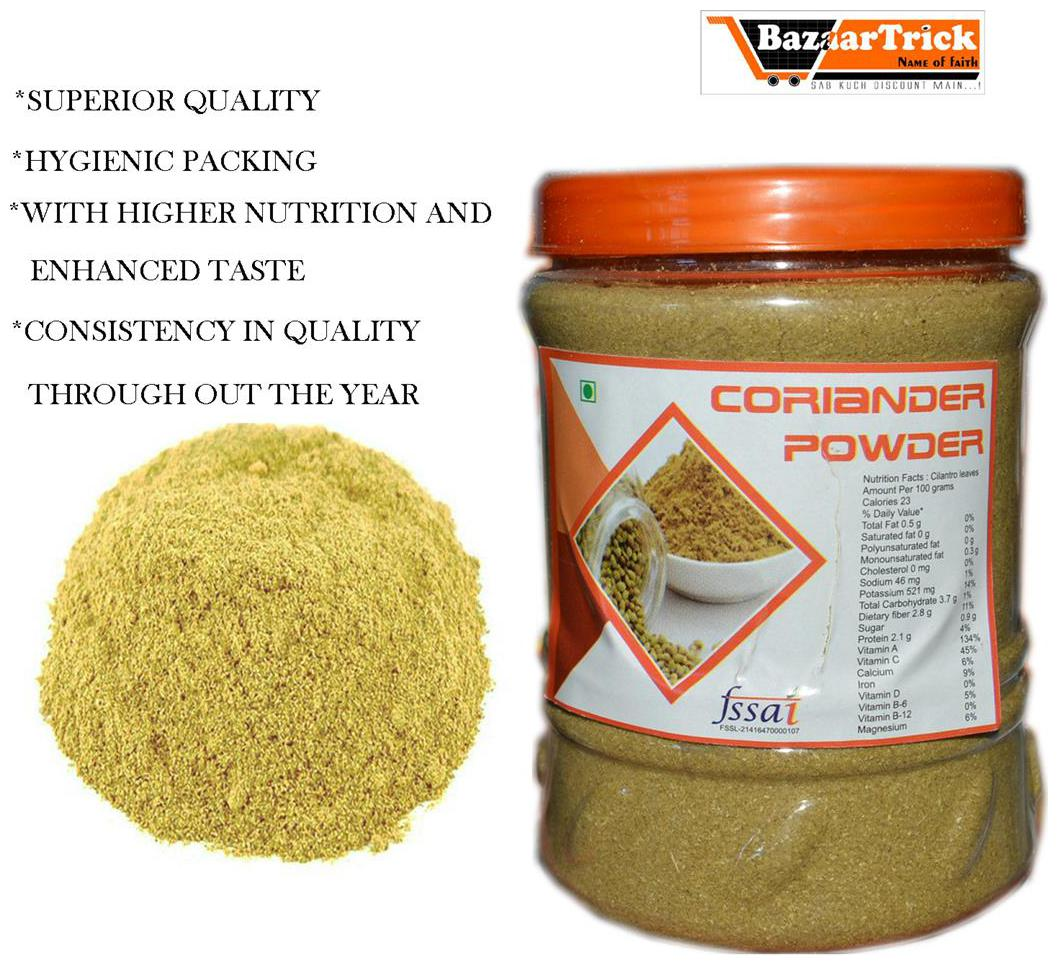fssai: (711, 685, 802, 725)
